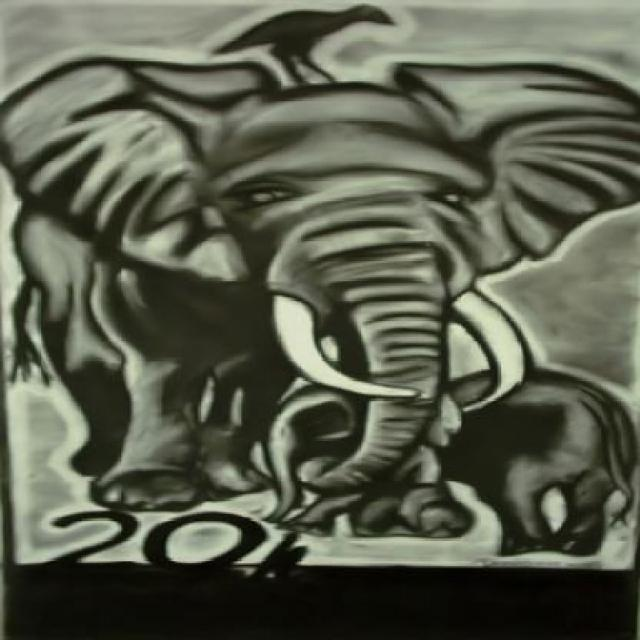Elephant: (0, 120, 605, 583)
